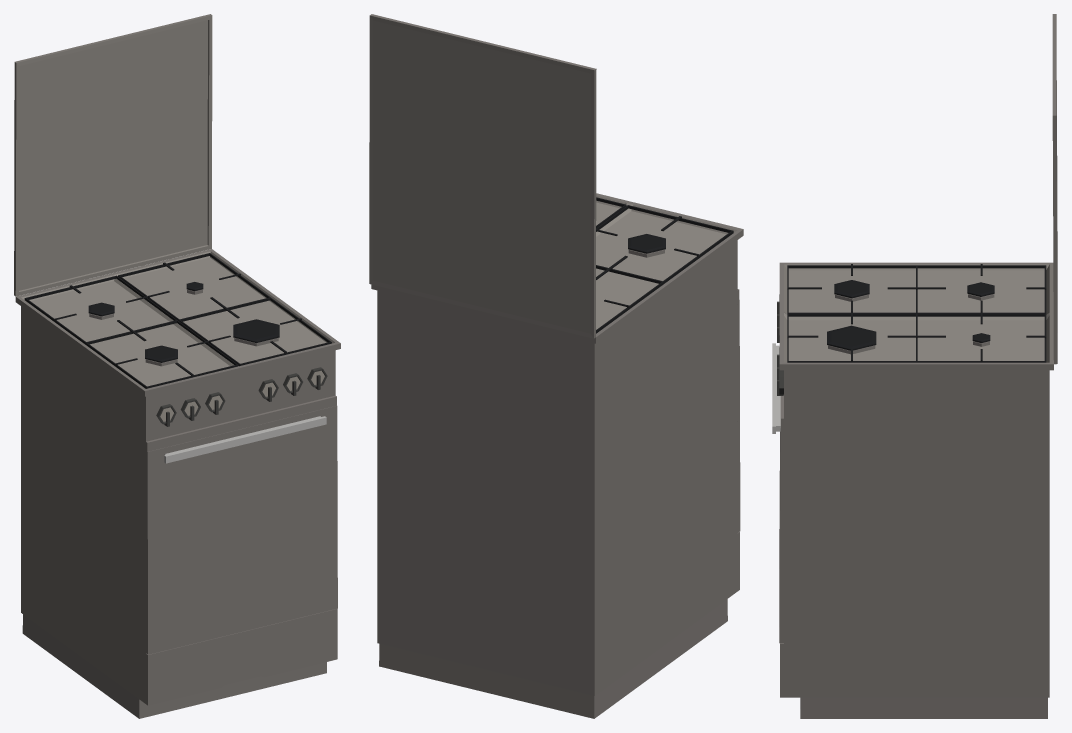
File: kitchenstove_01_A.gltf
The picture shows the model from 3 angles, left to right: view 1: azimuth 30°, elevation 25°; view 2: azimuth 150°, elevation 25°; view 3: azimuth 270°, elevation 25°; orthographic projection. The views are drawn at different scales.
Parts seen in each view (by area): view 1: kitchenstove_01_A, coverforgasstove_01_A, Doorkitchenstove_01_A, pulloutshelfforgasstove_01_A; view 2: kitchenstove_01_A, coverforgasstove_01_A, Doorkitchenstove_01_A; view 3: kitchenstove_01_A, coverforgasstove_01_A, Doorkitchenstove_01_A.
Part boxes in pixels (x1=…): kitchenstove_01_A: x1=15, y1=249, x2=340, y2=718; coverforgasstove_01_A: x1=14, y1=14, x2=212, y2=296; Doorkitchenstove_01_A: x1=145, y1=405, x2=337, y2=654; pulloutshelfforgasstove_01_A: x1=146, y1=608, x2=337, y2=705; kitchenstove_01_A: x1=371, y1=193, x2=743, y2=718; coverforgasstove_01_A: x1=369, y1=14, x2=596, y2=338; Doorkitchenstove_01_A: x1=737, y1=300, x2=740, y2=532; kitchenstove_01_A: x1=779, y1=262, x2=1053, y2=718; coverforgasstove_01_A: x1=1052, y1=14, x2=1057, y2=364; Doorkitchenstove_01_A: x1=772, y1=343, x2=783, y2=643.
Size of the model in its own units: 0.5166 by 1.43 by 0.6127.
Materials: 1 (1 with a texture image).
